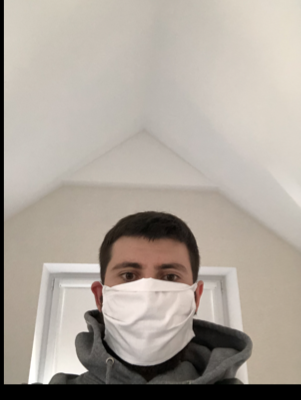with_mask: (101, 251, 197, 367)
